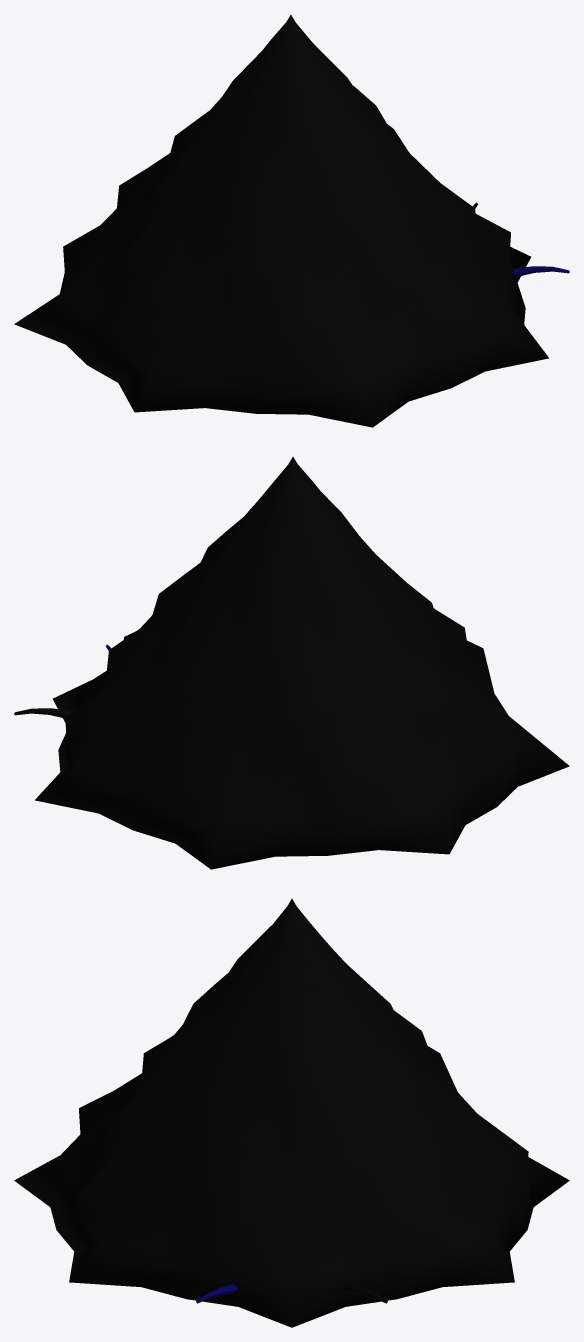
Rendered from astrea.glb.
The picture shows the model from 3 angles, top to bottom: view 1: azimuth 30°, elevation 25°; view 2: azimuth 150°, elevation 25°; view 3: azimuth 270°, elevation 25°; orthographic projection. The views are drawn at different scales.
Visible parts, largest first — view 1: Shell; view 2: Shell; view 3: Shell, Tentacles.
Boxes of the visible parts, x1,y1,x2,y2 form: Shell: [14, 15, 548, 427]; Shell: [35, 457, 569, 869]; Shell: [14, 898, 569, 1327]; Tentacles: [196, 1283, 387, 1303].
Size of the model in its own units: 1.14 by 0.77 by 1.17.
1 material, 1 textured.
